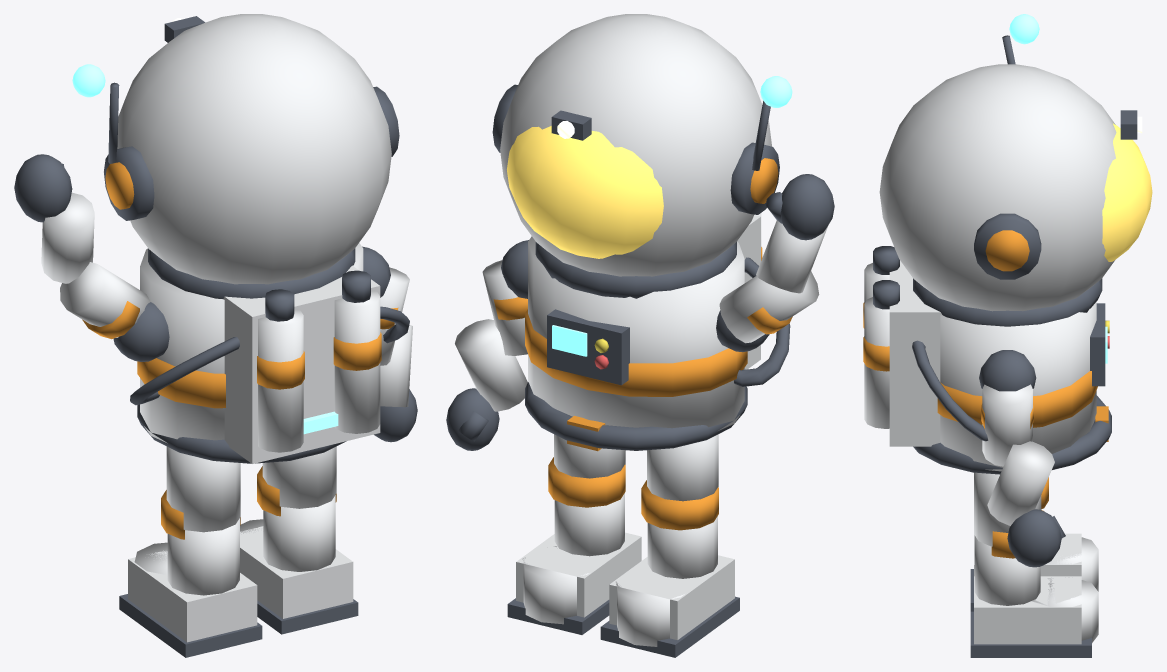
Rendered from astronaut.glb.
The picture shows the model from 3 angles, left to right: view 1: azimuth 30°, elevation 25°; view 2: azimuth 150°, elevation 25°; view 3: azimuth 270°, elevation 25°; orthographic projection. The views are drawn at different scales.
Parts seen in each view (by area): view 1: Helmet, Life_Support_Pack, Torso, Boot_R, Boot_L, Thigh_R, O2_Tank_L, O2_Tank_R, Shin_R, Shin_L, Forearm_R, Upper_Arm_R (+27 smaller); view 2: Helmet, Torso, Visor, Torso_Orange_Band, Boot_R, Belt, Boot_L, Forearm_L, Neck_Collar, Thigh_R, Chest_Control_Panel, Upper_Arm_R (+26 smaller); view 3: Helmet, Torso, Life_Support_Pack, Boot_L, Visor, Forearm_L, Upper_Arm_L, Shin_L, Neck_Collar, Torso_Orange_Band, Belt, O2_Tank_L (+18 smaller).
Boxes of the visible parts, x1,y1,x2,y2 form: Helmet: (117,14,391,284); Life_Support_Pack: (223,265,380,463); Torso: (140,243,363,443); Boot_R: (128,550,257,642); Boot_L: (240,526,353,618); Thigh_R: (166,446,240,532); O2_Tank_L: (334,290,380,433); O2_Tank_R: (258,309,303,452); Shin_R: (167,518,239,595); Shin_L: (263,495,335,571); Forearm_R: (41,192,94,283); Upper_Arm_R: (60,262,150,337); Helmet: (500,14,771,276); Torso: (528,236,744,430); Visor: (507,126,663,258); Torso_Orange_Band: (525,309,747,396); Boot_R: (609,555,734,640); Belt: (525,382,747,450); Boot_L: (516,532,641,617); Forearm_L: (455,319,527,411); Neck_Collar: (535,242,736,298); Thigh_R: (647,434,718,501); Chest_Control_Panel: (547,309,629,385); Upper_Arm_R: (719,271,819,343); Helmet: (879,64,1116,311); Torso: (940,302,1096,471); Life_Support_Pack: (889,260,942,446); Boot_L: (974,576,1081,644); Visor: (1102,123,1152,261); Forearm_L: (987,441,1054,525); Upper_Arm_L: (982,384,1032,466); Shin_L: (974,535,1040,605); Neck_Collar: (913,278,1102,326); Torso_Orange_Band: (937,371,1097,427); Belt: (913,395,1111,474); O2_Tank_L: (864,297,889,428).
Bounding box in the file's own units: 1.23 × 1.78 × 0.858.
